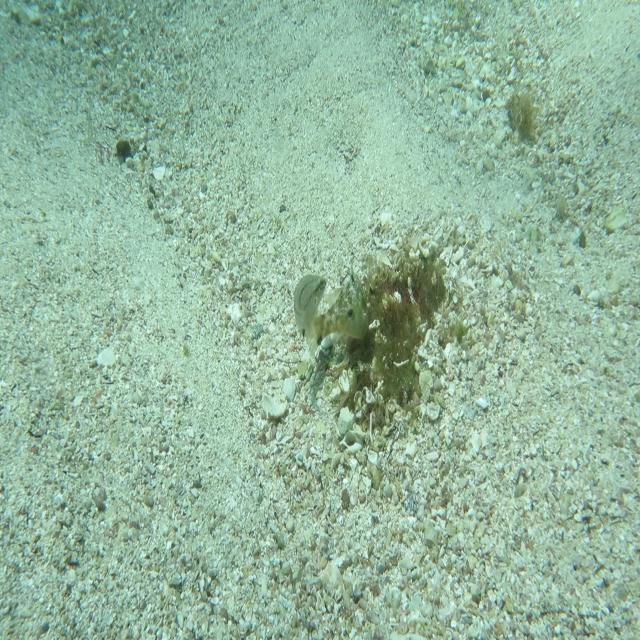DAN_CIRC: (304, 260, 369, 360)
female: (293, 273, 327, 340)
nest: (324, 228, 454, 432)
